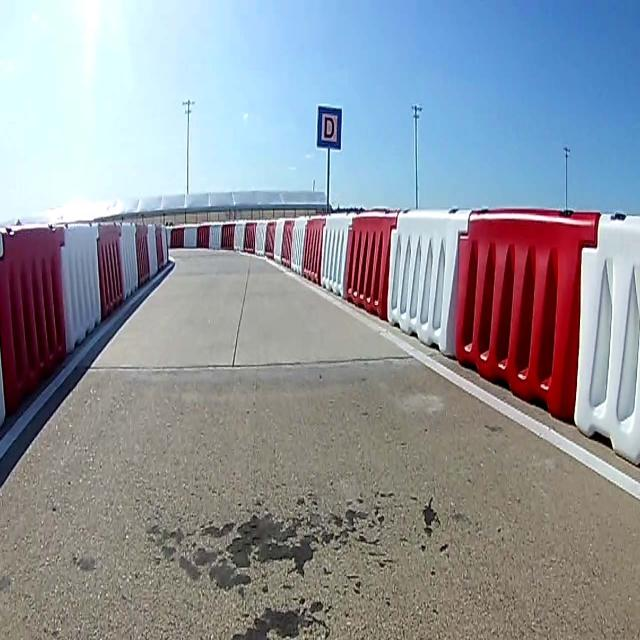durak: (317, 107, 342, 149)
